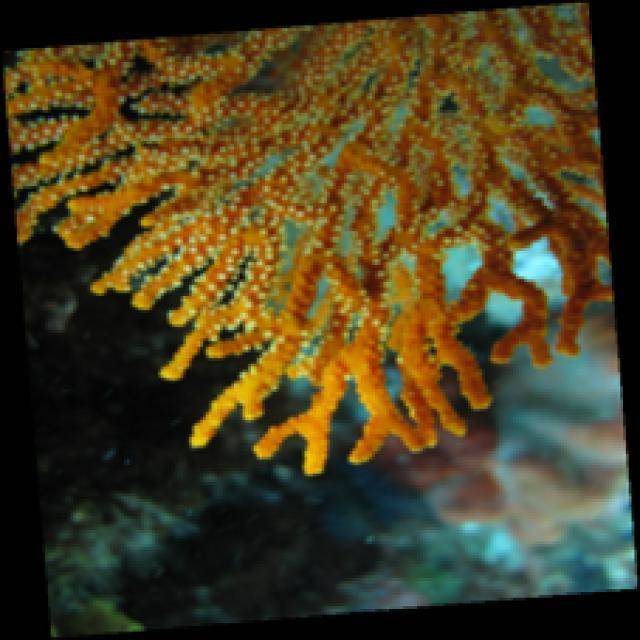Healthy: (3, 3, 618, 480)
